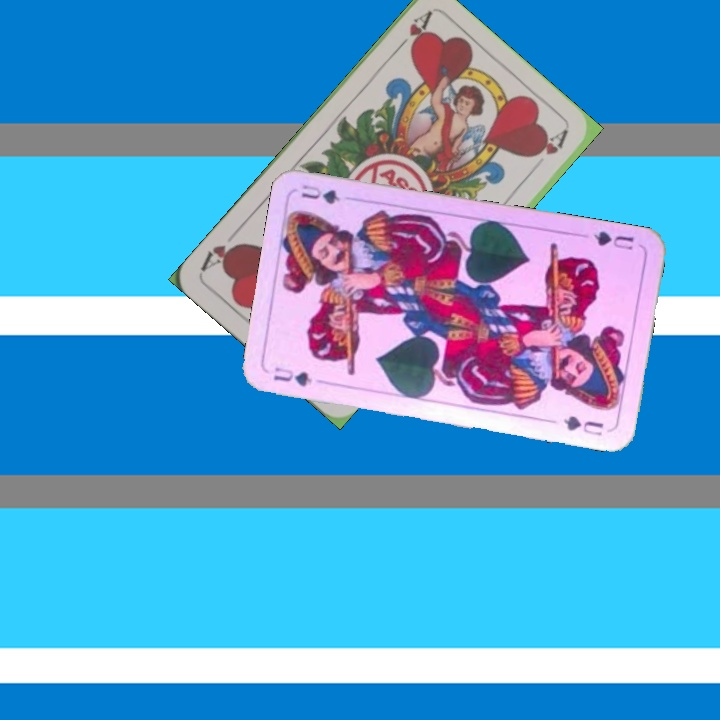GU: (589, 226, 637, 253), (269, 363, 314, 389)
HA: (389, 8, 434, 57)
